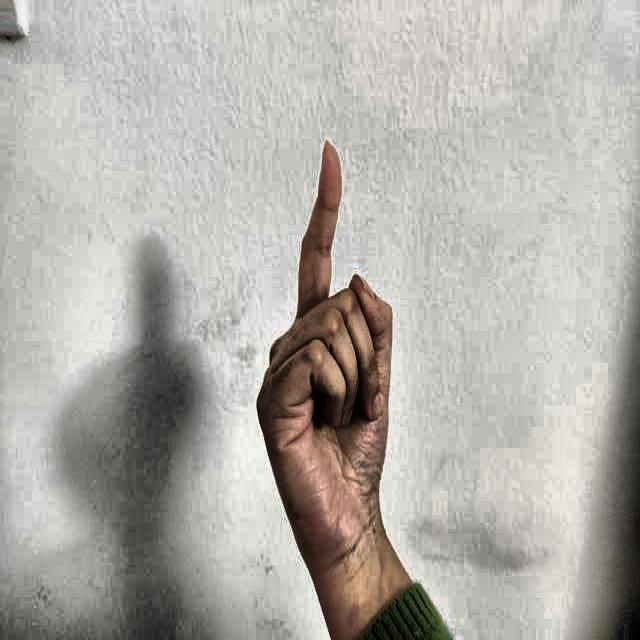U: (240, 121, 415, 564)
